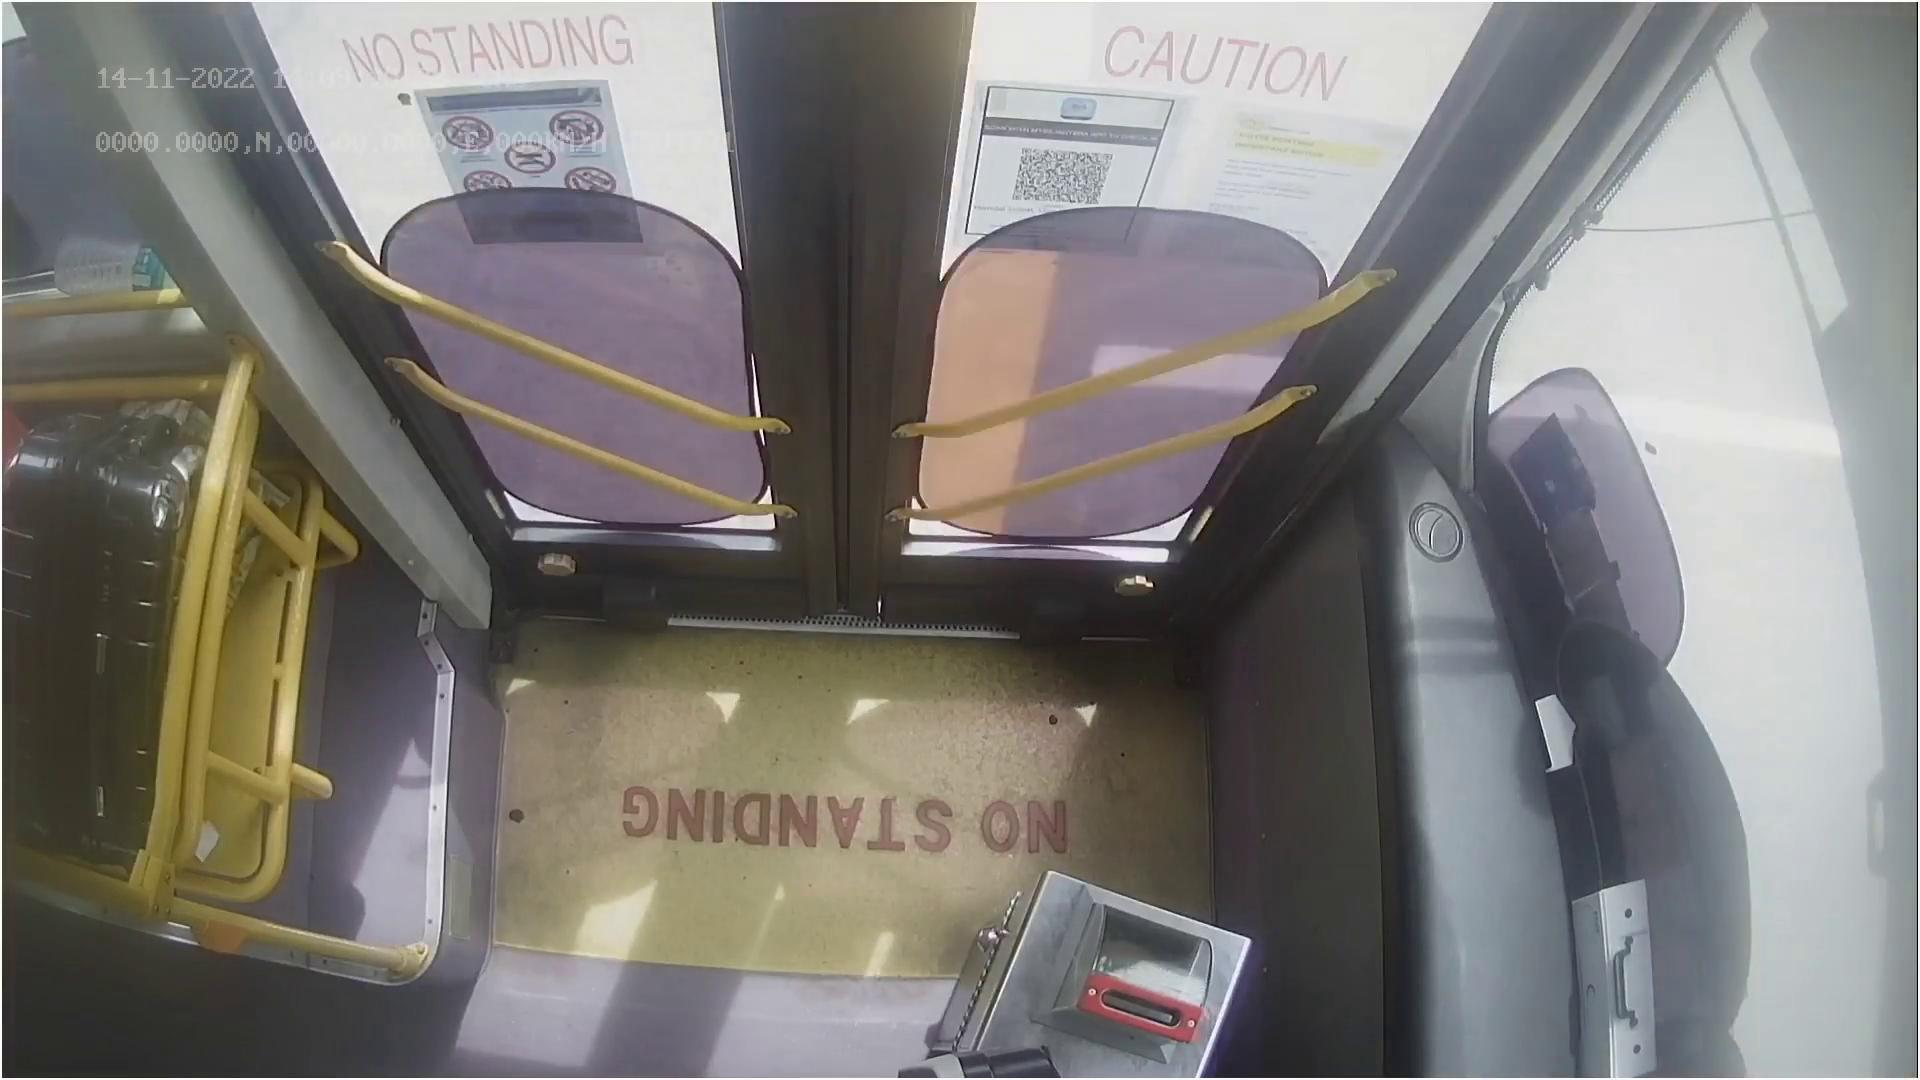close: (286, 0, 1444, 156)
